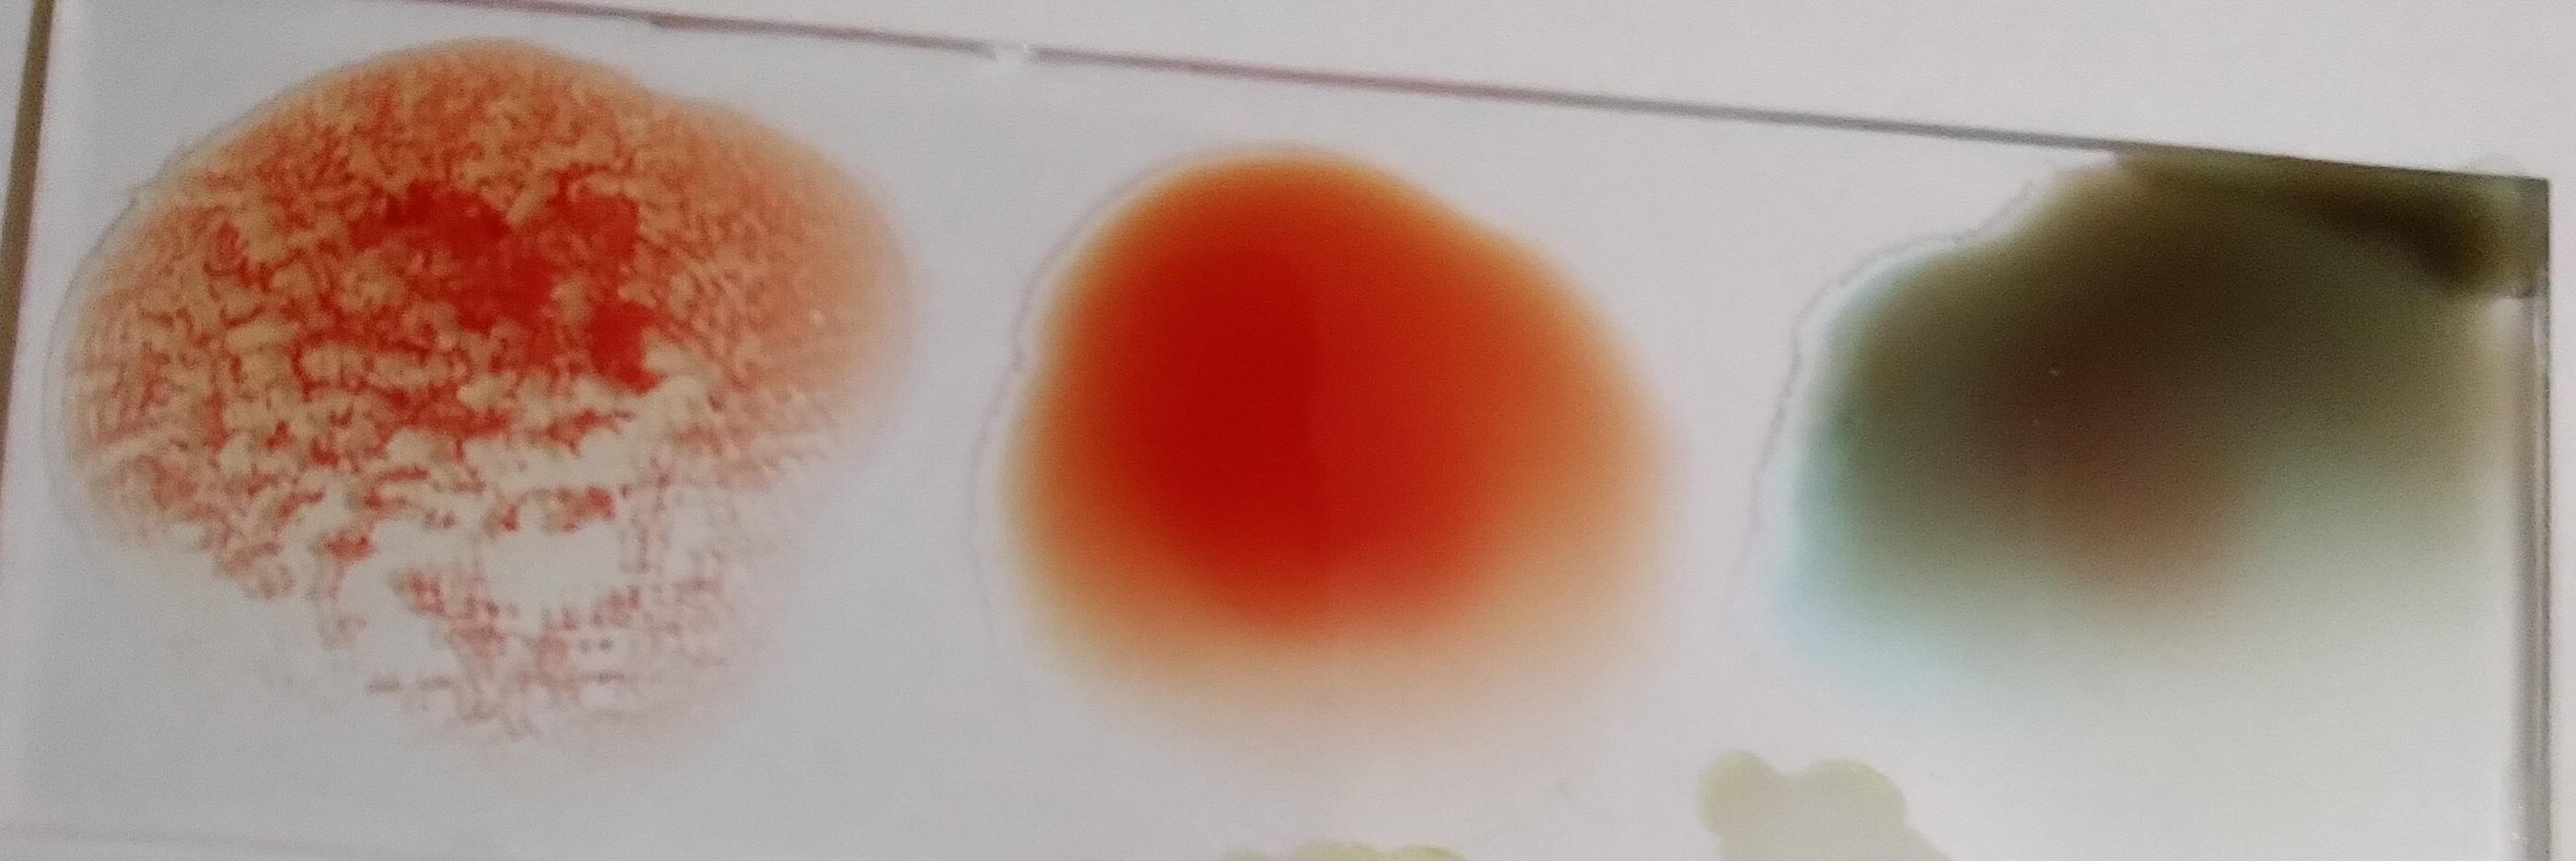D: (97, 61, 862, 743)
